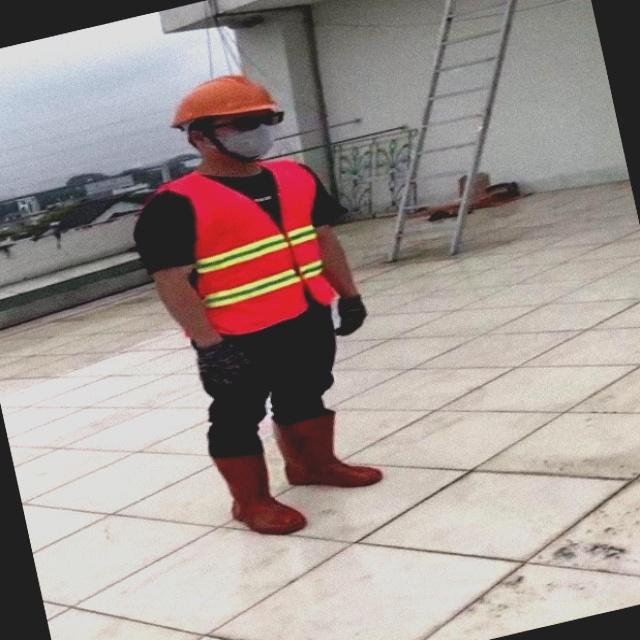helmet: (172, 74, 287, 124)
safety_vest: (155, 154, 328, 326)
